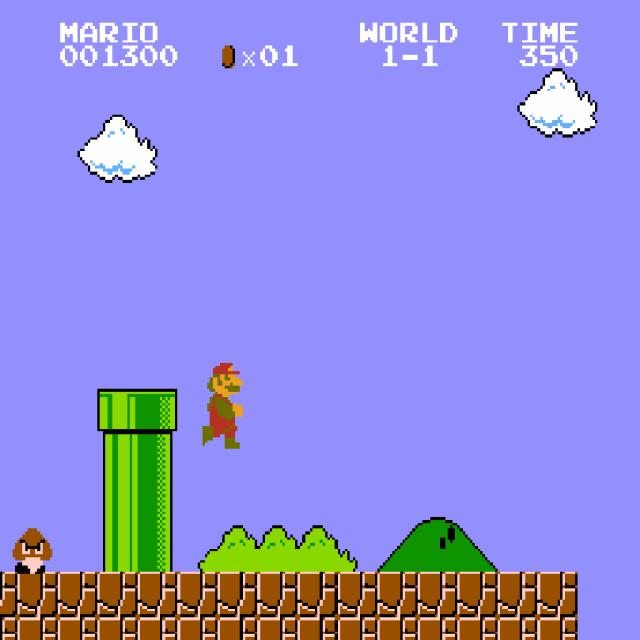big_mario: (200, 354, 242, 448)
goomba: (10, 526, 52, 574)
pipe: (97, 434, 138, 480), (97, 480, 138, 526), (137, 434, 178, 480), (137, 480, 178, 526), (97, 526, 138, 571), (137, 526, 178, 571)
pipe_head: (97, 389, 138, 434), (137, 389, 178, 434)
undestructible_block: (17, 572, 58, 617), (57, 572, 98, 617), (97, 572, 138, 617), (137, 572, 178, 617), (177, 572, 218, 617), (217, 572, 258, 617), (257, 572, 298, 617), (297, 572, 338, 617), (337, 572, 378, 617), (377, 572, 418, 617), (417, 572, 458, 617), (457, 572, 498, 617), (497, 572, 538, 617), (537, 572, 578, 617), (17, 617, 58, 640), (57, 617, 98, 640), (97, 617, 138, 640), (137, 617, 178, 640), (177, 617, 218, 640), (217, 617, 258, 640), (257, 617, 298, 640), (297, 617, 338, 640), (337, 617, 378, 640), (377, 617, 418, 640), (417, 617, 458, 640), (457, 617, 498, 640), (497, 617, 538, 640), (537, 617, 578, 640), (0, 571, 17, 617), (0, 617, 17, 639)
